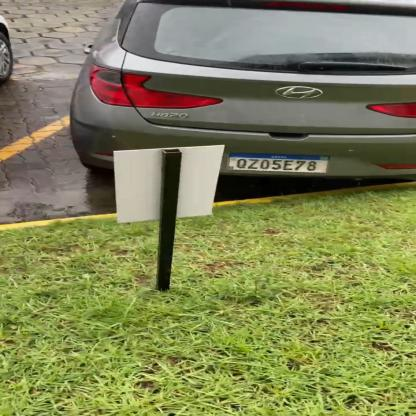Plate: (226, 152, 337, 177)
